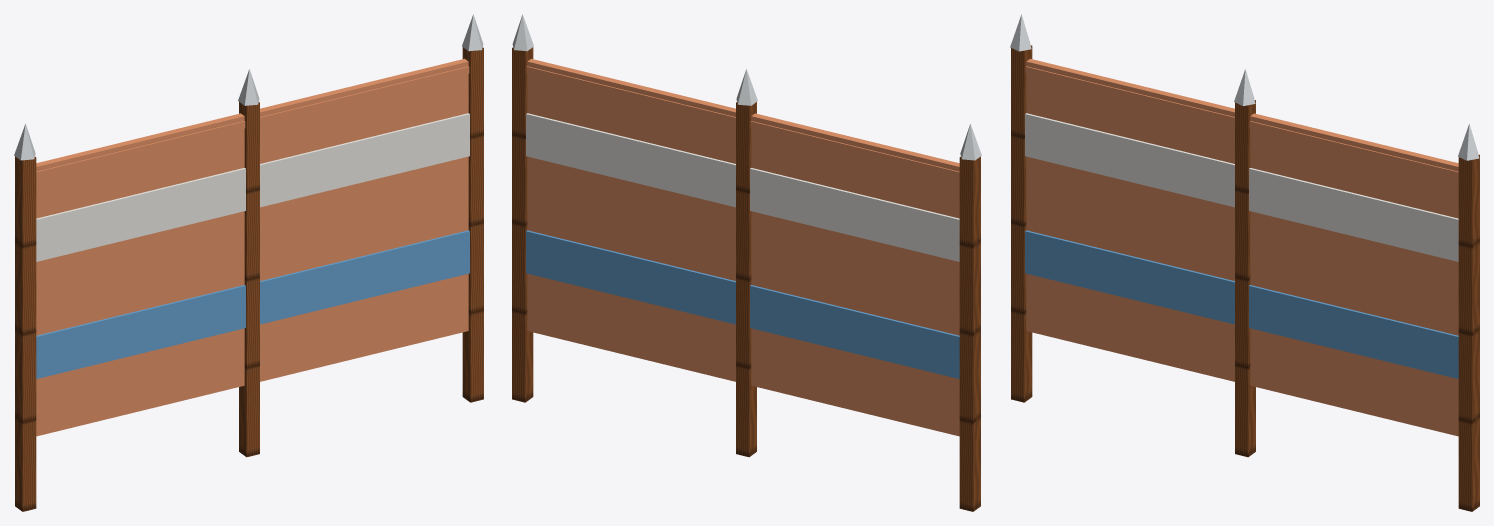
File: caravan-park-and-campsite-windbreak-bay-338d1ae6__35353.glb
The picture shows the model from 3 angles, left to right: view 1: azimuth 30°, elevation 25°; view 2: azimuth 150°, elevation 25°; view 3: azimuth 330°, elevation 25°; orthographic projection.
Visible parts, largest first — view 1: windbreak-bay-flame, windbreak-bay-timber, windbreak-bay-shell, windbreak-bay-azure, windbreak-bay-galv; view 2: windbreak-bay-flame, windbreak-bay-timber, windbreak-bay-shell, windbreak-bay-azure, windbreak-bay-galv; view 3: windbreak-bay-flame, windbreak-bay-timber, windbreak-bay-azure, windbreak-bay-shell, windbreak-bay-galv.
Part boxes in pixels (x1,y1,x2,y2): windbreak-bay-flame: [36, 58, 469, 436]; windbreak-bay-timber: [15, 47, 483, 511]; windbreak-bay-shell: [36, 113, 469, 261]; windbreak-bay-azure: [36, 230, 469, 378]; windbreak-bay-galv: [14, 14, 483, 160]; windbreak-bay-flame: [526, 58, 959, 436]; windbreak-bay-timber: [512, 47, 980, 511]; windbreak-bay-shell: [526, 113, 959, 261]; windbreak-bay-azure: [526, 230, 959, 378]; windbreak-bay-galv: [512, 14, 981, 160]; windbreak-bay-flame: [1025, 58, 1458, 436]; windbreak-bay-timber: [1011, 45, 1479, 511]; windbreak-bay-azure: [1025, 230, 1458, 378]; windbreak-bay-shell: [1025, 113, 1458, 261]; windbreak-bay-galv: [1010, 14, 1479, 160].
Size of the model in its own units: 2.08 by 1.64 by 0.0856.
Materials: 5 (1 with a texture image).
